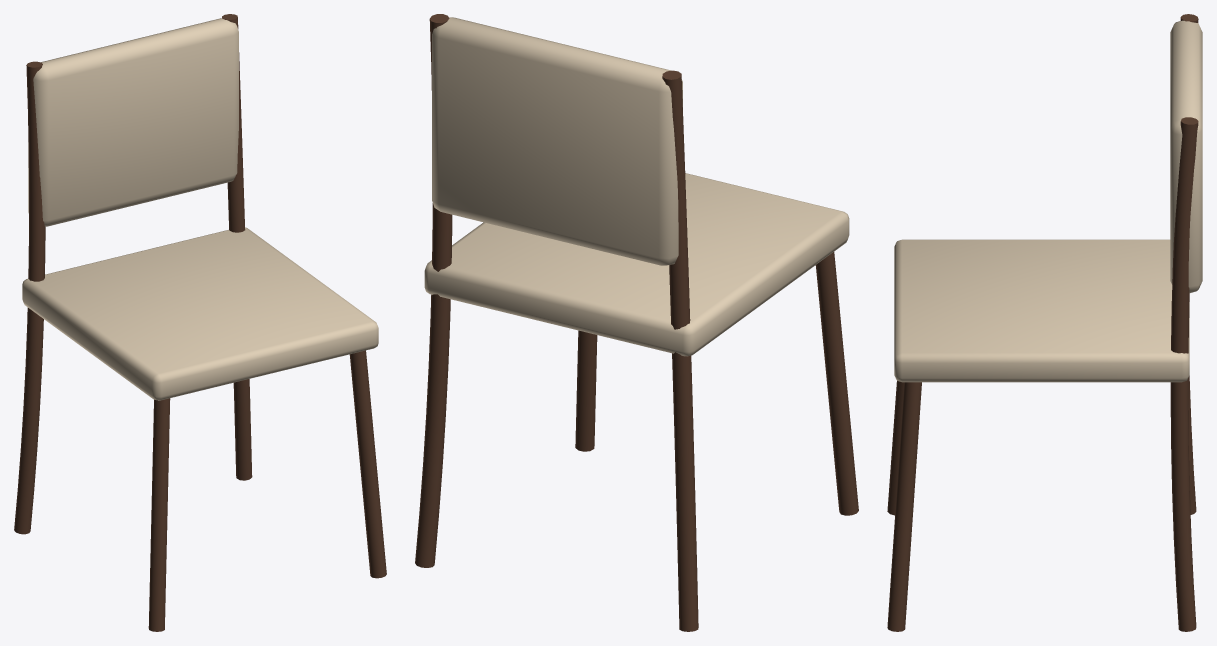
The model's file is i_chair_1.glb.
3 views of the same model, side by side, from view 1: azimuth 30°, elevation 25°; view 2: azimuth 150°, elevation 25°; view 3: azimuth 270°, elevation 25° (orthographic). The views are drawn at different scales.
Visible parts, largest first — view 1: o.004, o.005, o.001, o.002, o, o.003; view 2: o.005, o.004, o.001, o.003, o, o.002; view 3: o.004, o.003, o.005, o.002, o, o.001.
Part boxes in pixels (x1=…): o.004: x1=22, y1=227, x2=378, y2=400; o.005: x1=28, y1=18, x2=238, y2=226; o.001: x1=14, y1=61, x2=45, y2=534; o.002: x1=349, y1=350, x2=386, y2=578; o: x1=148, y1=398, x2=170, y2=631; o.003: x1=222, y1=14, x2=252, y2=480; o.005: x1=432, y1=17, x2=682, y2=265; o.004: x1=424, y1=173, x2=849, y2=356; o.001: x1=662, y1=70, x2=698, y2=631; o.003: x1=415, y1=14, x2=452, y2=567; o: x1=815, y1=252, x2=858, y2=515; o.002: x1=575, y1=330, x2=597, y2=451; o.004: x1=894, y1=239, x2=1189, y2=382; o.003: x1=1170, y1=117, x2=1198, y2=631; o.005: x1=1170, y1=20, x2=1202, y2=293; o.002: x1=887, y1=382, x2=921, y2=631; o: x1=887, y1=381, x2=904, y2=515; o.001: x1=1180, y1=14, x2=1198, y2=514.
Bounding box in the file's own units: 0.4597 × 0.8621 × 0.4906.
